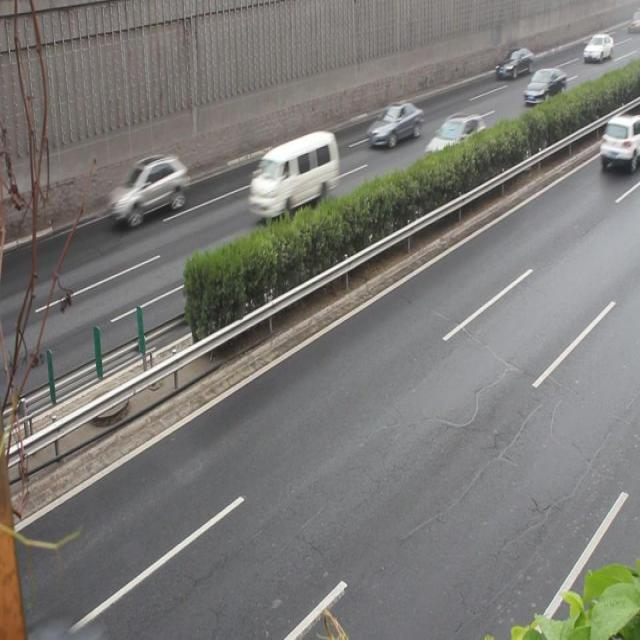car: (108, 153, 186, 226), (424, 114, 486, 167), (366, 102, 422, 150), (521, 68, 564, 105), (494, 48, 533, 80)
truck: (246, 128, 338, 217)
